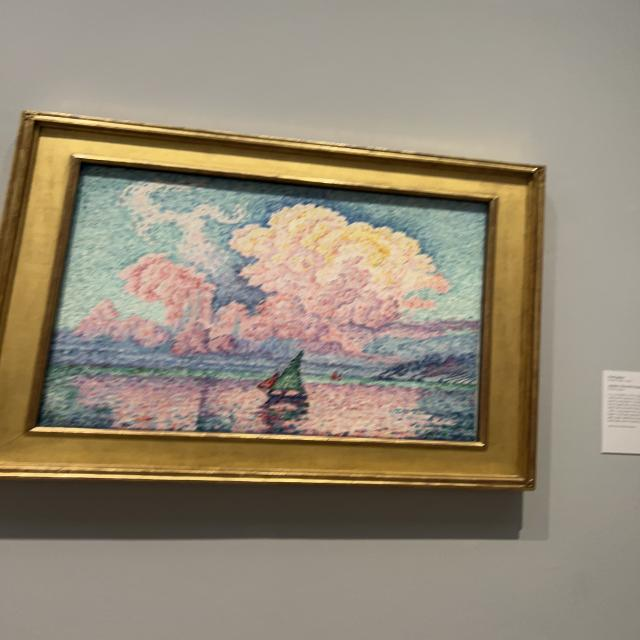sunrise: (42, 168, 483, 435)
